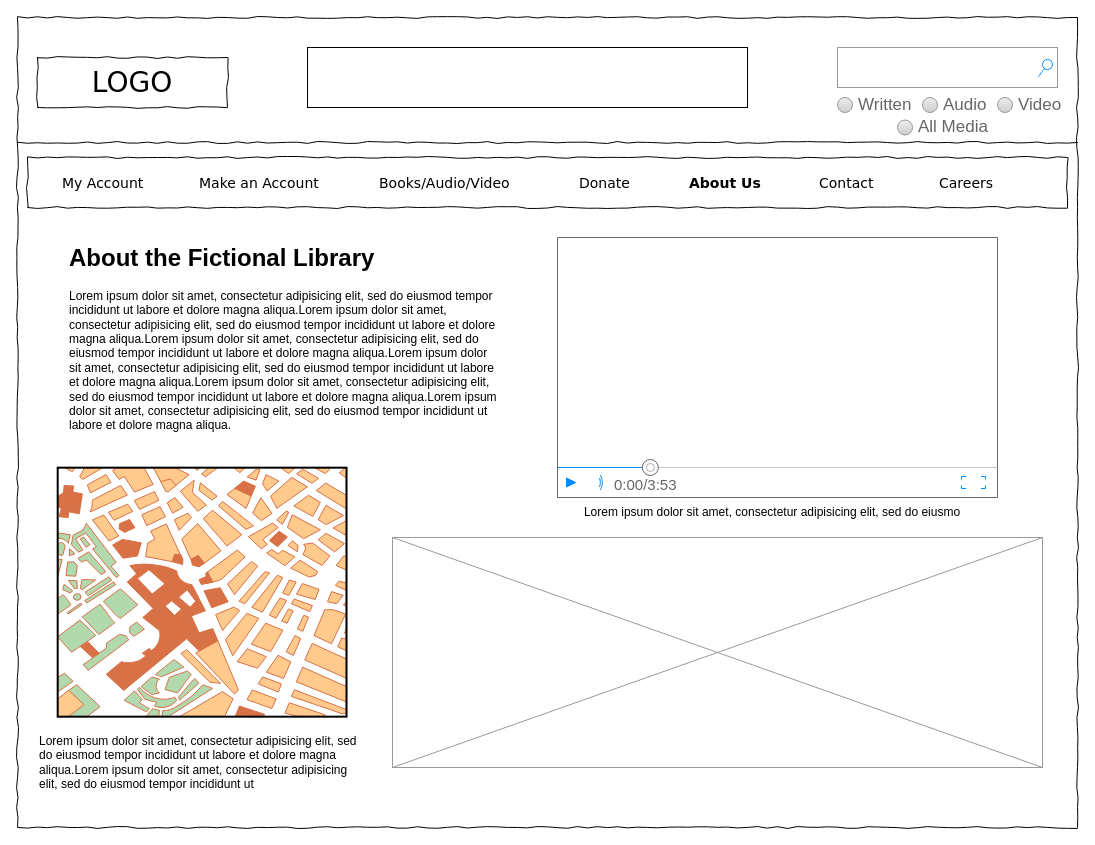
The diagram is 1095 pixels wide and 845 high, and some of its shapes have lost their labels. The shapes that lost their labels are listed below. From the top down, each one's box as (x1, y1, x2, y2) in pixels, then its label:
(306, 46, 748, 108): Welcome to the Fictional Library Online!
(836, 46, 1058, 88): Search
